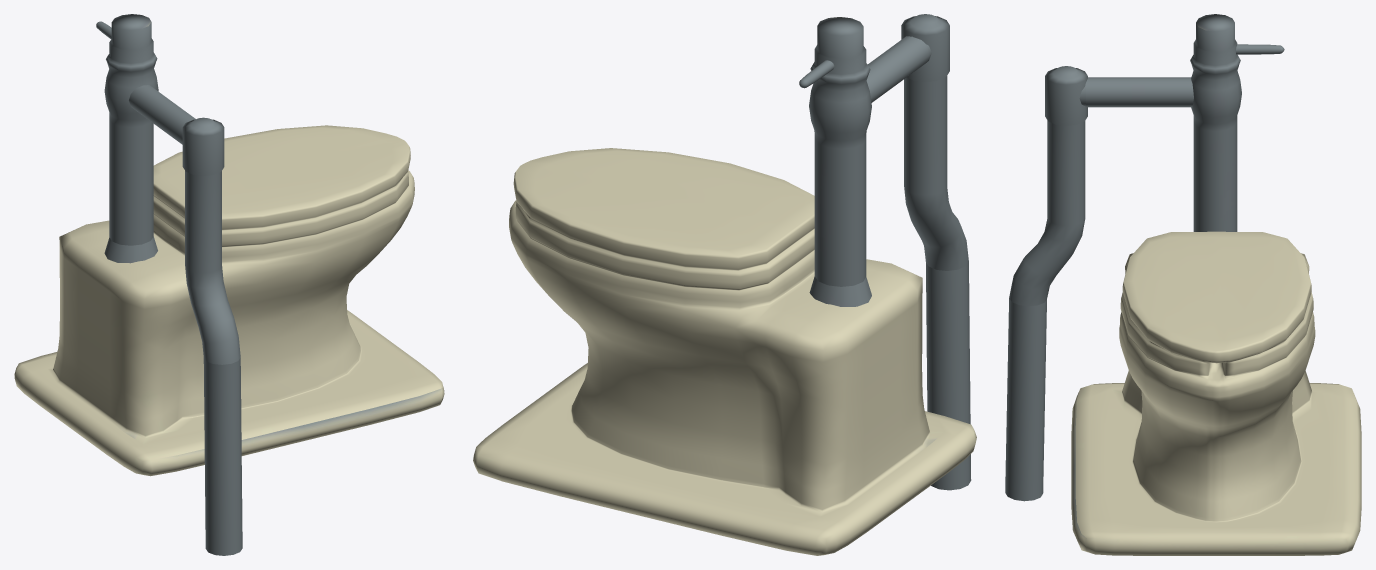
Rendered from m_duck_toilet_lod1.fbx.
The picture shows the model from 3 angles, left to right: view 1: azimuth 30°, elevation 25°; view 2: azimuth 150°, elevation 25°; view 3: azimuth 270°, elevation 25°; orthographic projection. The views are drawn at different scales.
Visible parts, largest first — view 1: polySurface7, polySurface12; view 2: polySurface7, polySurface12; view 3: polySurface7, polySurface12.
Part boxes in pixels (bbox=[...]): polySurface7: bbox=[14, 125, 444, 476]; polySurface12: bbox=[96, 14, 242, 555]; polySurface7: bbox=[473, 148, 976, 555]; polySurface12: bbox=[799, 14, 971, 490]; polySurface7: bbox=[1071, 231, 1361, 555]; polySurface12: bbox=[1005, 14, 1284, 501].
Bounding box in the file's own units: 8.53 × 11 × 7.55.
